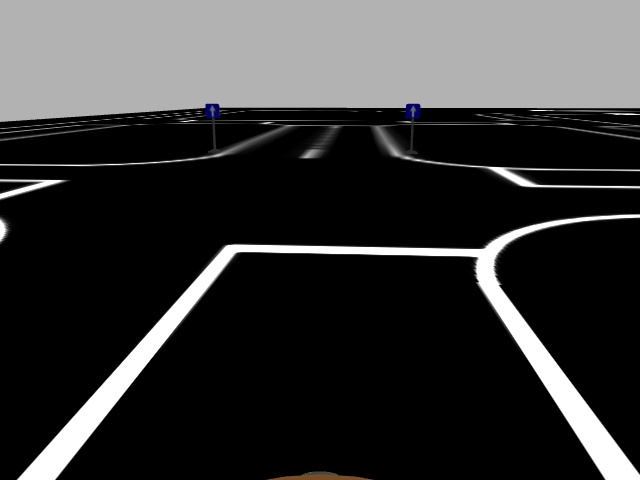oneway: (404, 100, 422, 122), (203, 101, 220, 120)
